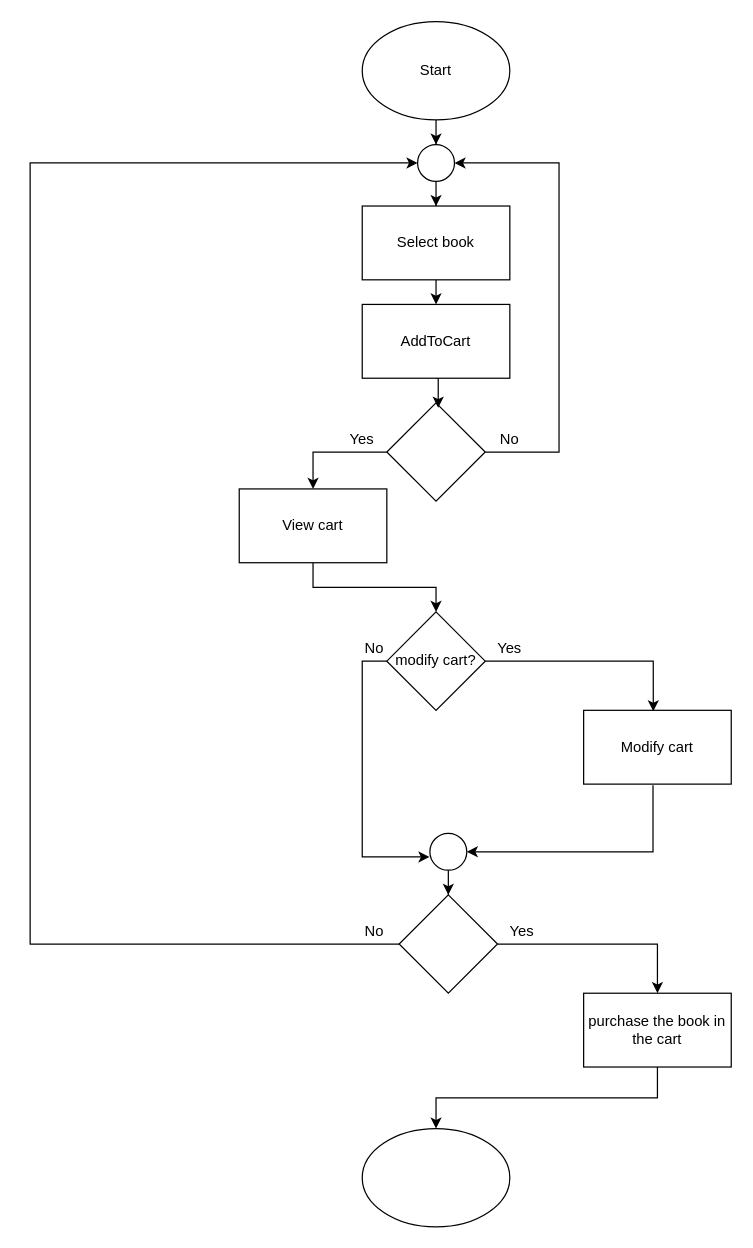
The diagram is 753 pixels wide and 1248 high, and some of its shapes have lost their labels. Each missing label, with the centre of its shape:
"End" goes at pixel 435 1177.
"purchase?" goes at pixel 448 943.
"view cart?" goes at pixel 435 451.
